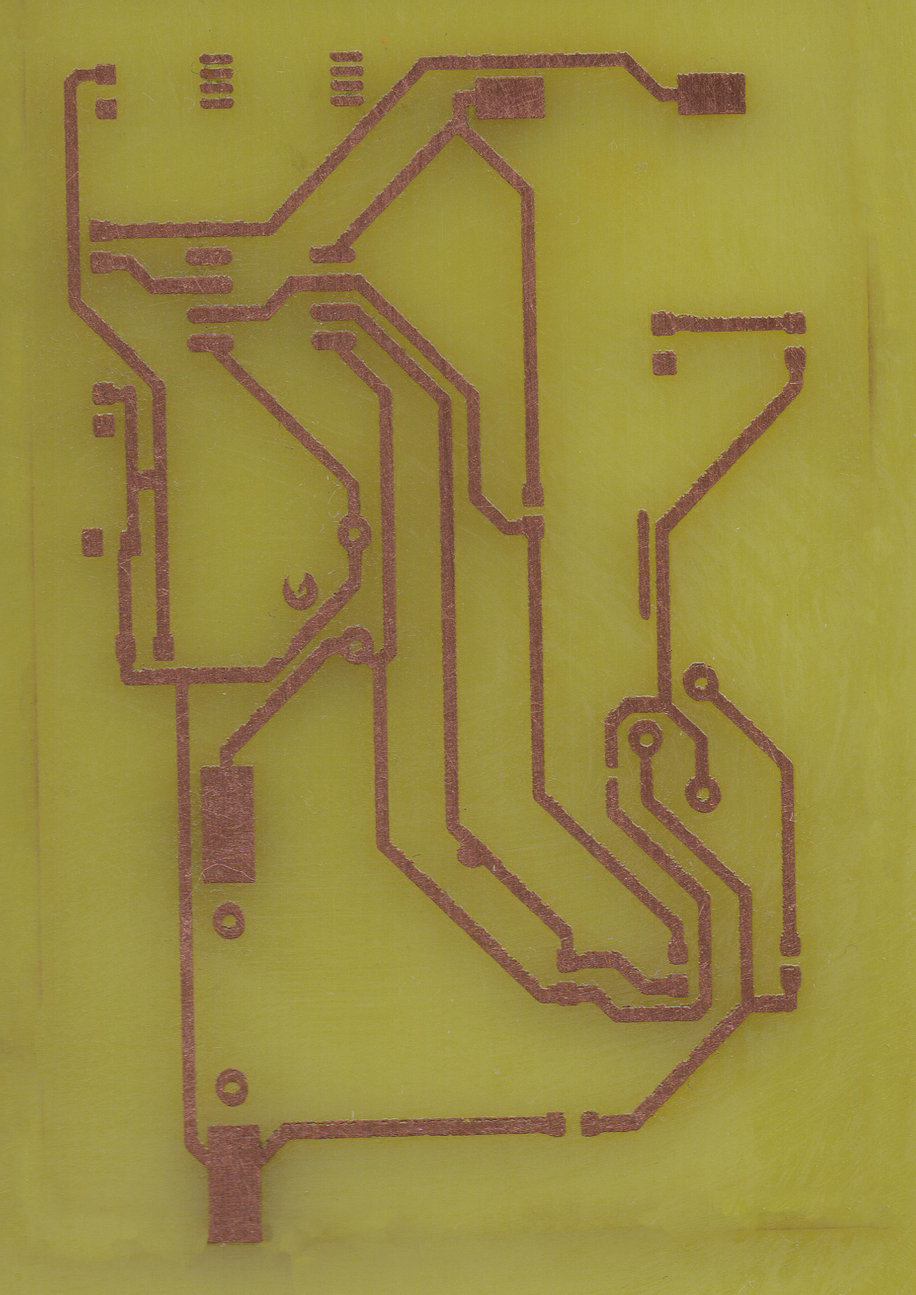missing_hole: (277, 574, 316, 611)
mouse_bite: (268, 640, 298, 662)
open_circuit: (604, 757, 620, 790)
short: (121, 457, 178, 499)
spur: (452, 836, 494, 875)
spurious_copper: (632, 504, 656, 625)
